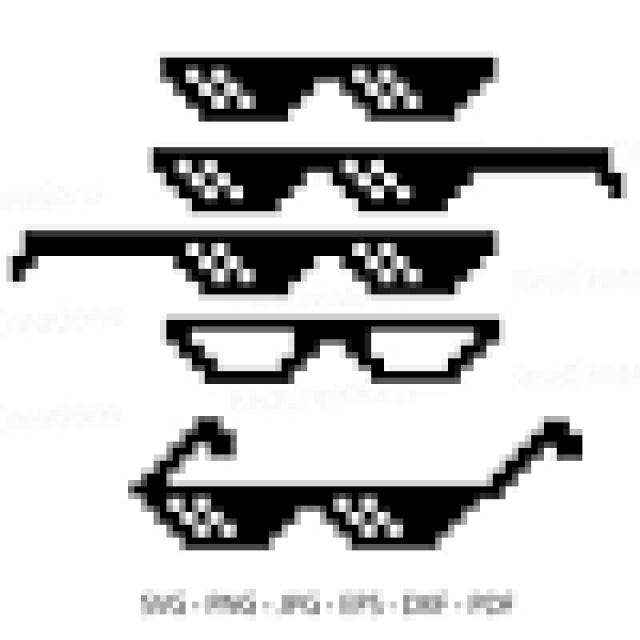suspicious-objects: (154, 35, 506, 131)
